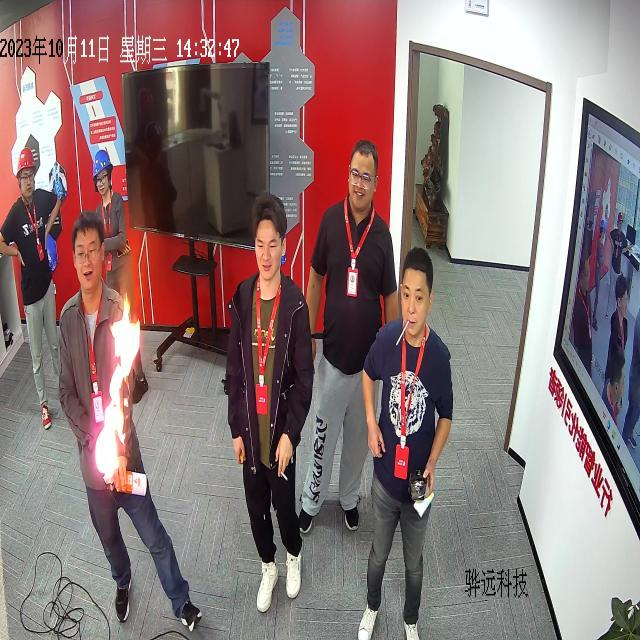Fire: (96, 294, 141, 483)
